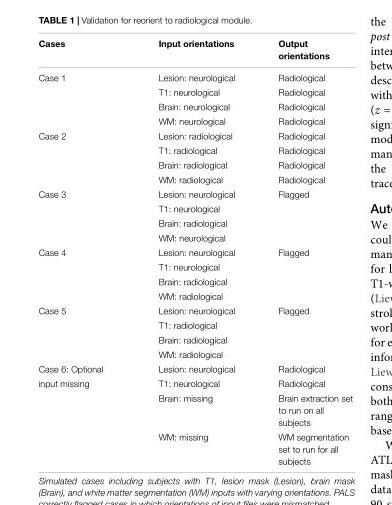table: (37, 37, 352, 465)
table column: (130, 37, 255, 465), (255, 37, 352, 465), (37, 37, 130, 465)
table column header: (37, 37, 352, 65)
table row: (37, 390, 352, 428), (37, 428, 352, 465), (37, 37, 352, 65), (37, 65, 352, 84), (37, 98, 352, 113), (37, 127, 352, 142), (37, 156, 352, 171), (37, 171, 352, 186), (37, 200, 352, 215), (37, 229, 352, 244), (37, 258, 352, 273), (37, 273, 352, 288), (37, 302, 352, 317), (37, 331, 352, 346), (37, 360, 352, 375), (37, 375, 352, 390), (37, 84, 352, 98), (37, 113, 352, 127), (37, 142, 352, 156), (37, 186, 352, 200), (37, 215, 352, 229), (37, 244, 352, 258), (37, 288, 352, 302), (37, 317, 352, 331), (37, 346, 352, 360)
table spanning cell: (37, 375, 130, 465), (37, 65, 130, 127), (37, 127, 130, 186), (37, 186, 130, 244), (37, 244, 130, 302), (37, 302, 130, 360)
